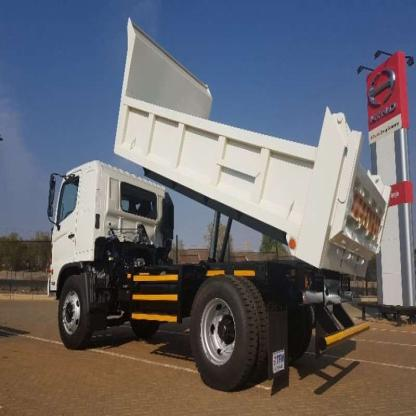dump_truck: (37, 14, 388, 396)
